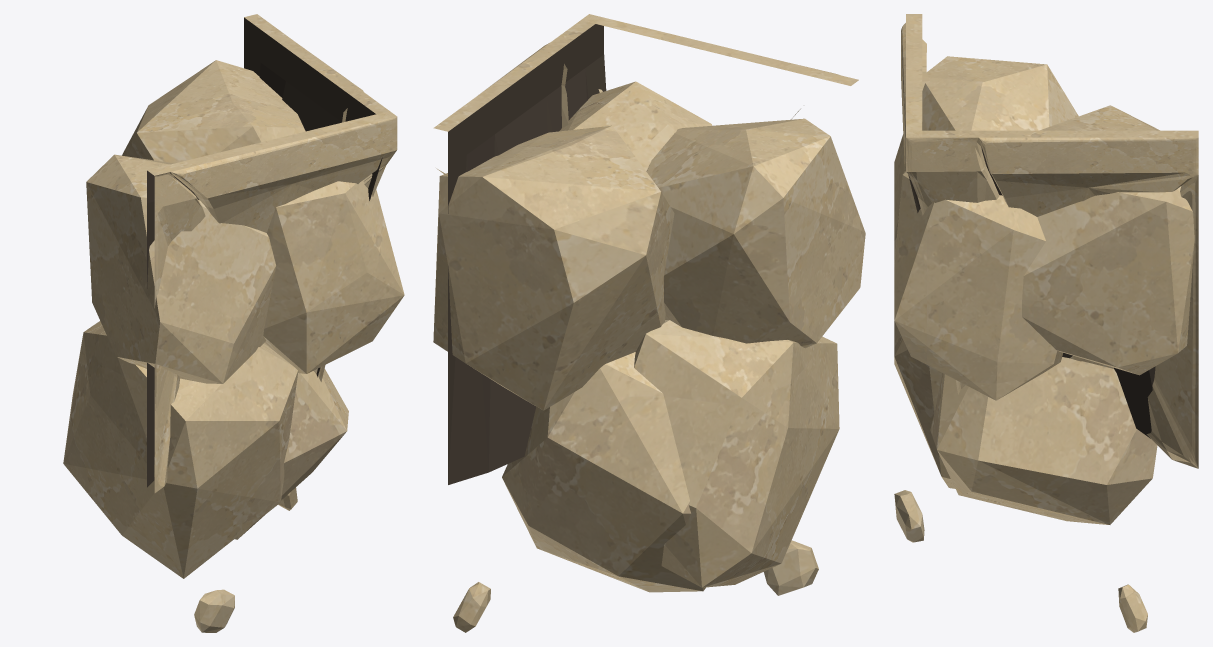
The model's file is ground_bottom_corner_05.glb.
3 views of the same model, side by side, from view 1: azimuth 30°, elevation 25°; view 2: azimuth 150°, elevation 25°; view 3: azimuth 270°, elevation 25° (orthographic). The views are drawn at different scales.
Visible parts, largest first — view 1: GroundBottomCorner05_Body; view 2: GroundBottomCorner05_Body; view 3: GroundBottomCorner05_Body.
Boxes of the visible parts, box(x1,y1,x2,y2) form: GroundBottomCorner05_Body: box(63, 14, 404, 632); GroundBottomCorner05_Body: box(433, 14, 865, 632); GroundBottomCorner05_Body: box(894, 14, 1198, 632).
Size of the model in its own units: 1.04 by 1.87 by 1.04.
Materials: 8 (7 with a texture image).
